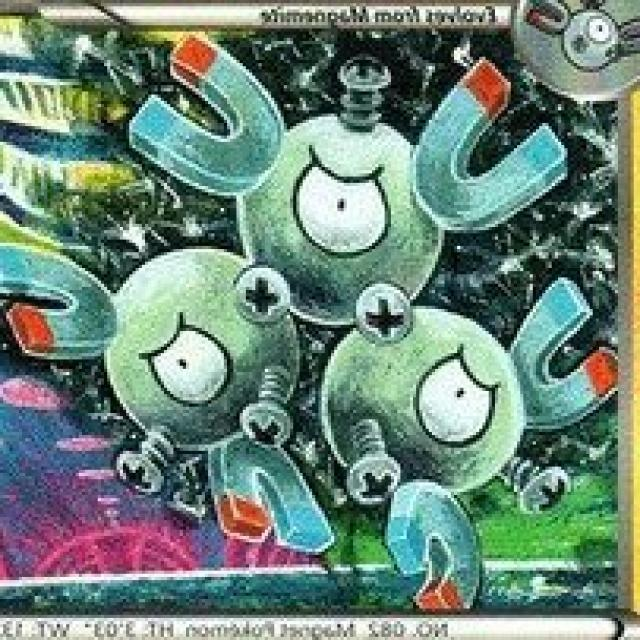Magneton: (35, 62, 583, 530)
